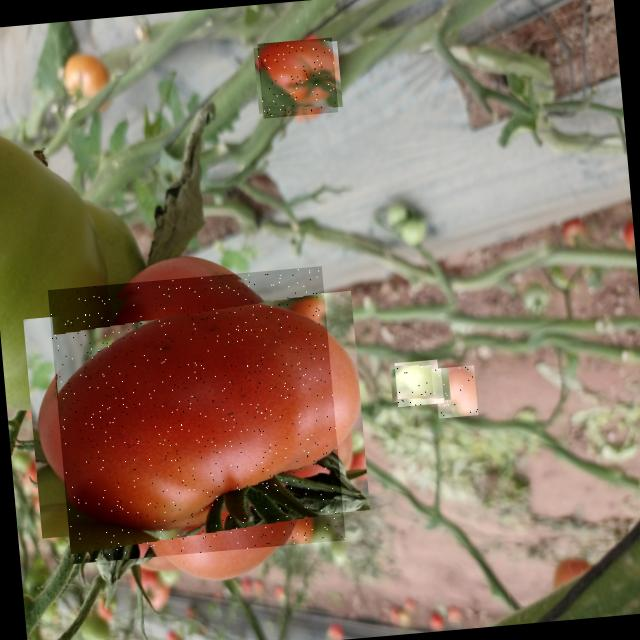Ripe Tomato: (47, 266, 346, 564), (257, 37, 338, 118), (431, 365, 477, 418)
Unripe Tomato: (394, 359, 441, 407)
